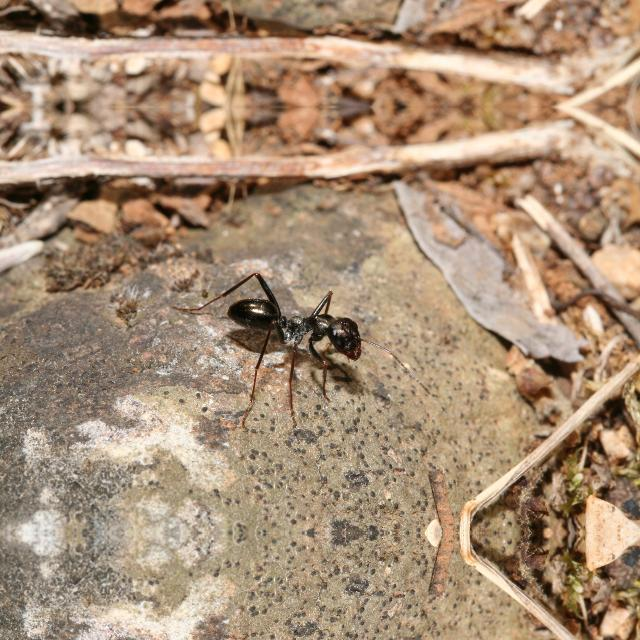Cataglyphis: (206, 276, 380, 366)
